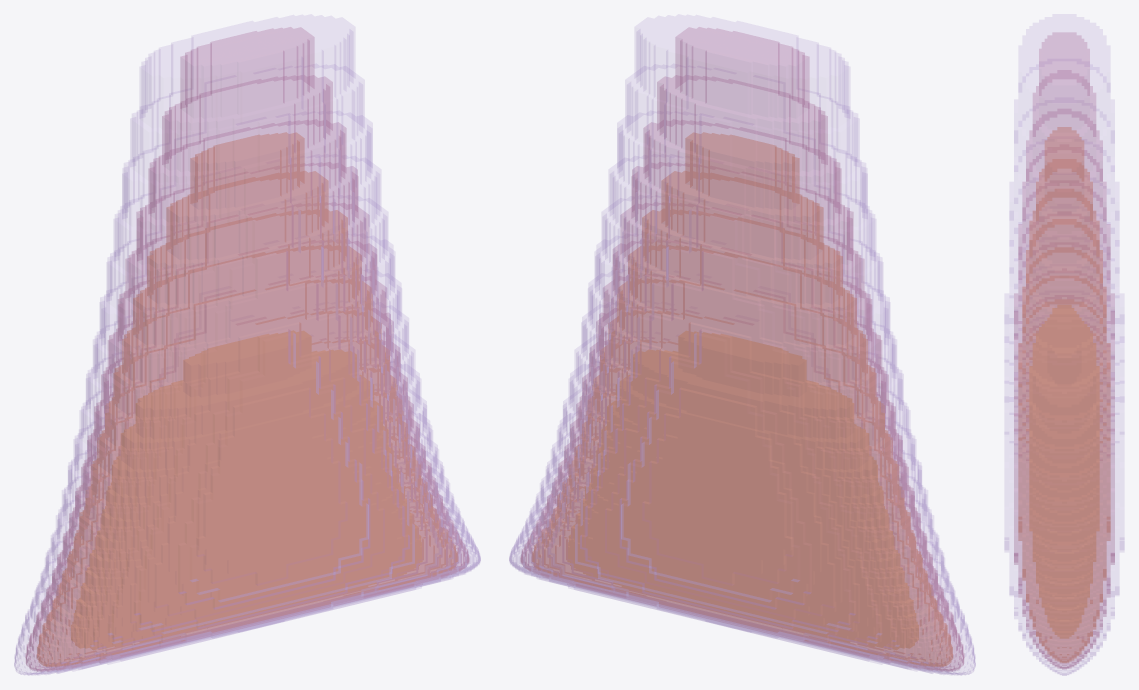
The model's file is phase-beam.glb.
The picture shows the model from 3 angles, left to right: view 1: azimuth 30°, elevation 25°; view 2: azimuth 150°, elevation 25°; view 3: azimuth 270°, elevation 25°; orthographic projection. The views are drawn at different scales.
Parts seen in each view (by area): view 1: Shell0, Shell1, Shell2, Shell3; view 2: Shell0, Shell1, Shell2, Shell3; view 3: Shell0, Shell1, Shell2, Shell3.
Part boxes in pixels (x1,y1,x2,y2): Shell0: (14,15,480,675); Shell1: (25,27,469,671); Shell2: (37,132,457,666); Shell3: (71,331,421,649); Shell0: (509,15,975,675); Shell1: (520,27,964,671); Shell2: (532,132,952,666); Shell3: (568,331,918,649); Shell0: (1004,14,1124,675); Shell1: (1014,32,1114,669); Shell2: (1018,127,1110,662); Shell3: (1030,305,1098,637).
Size of the model in its own units: 1.07 by 1.28 by 0.2671.
